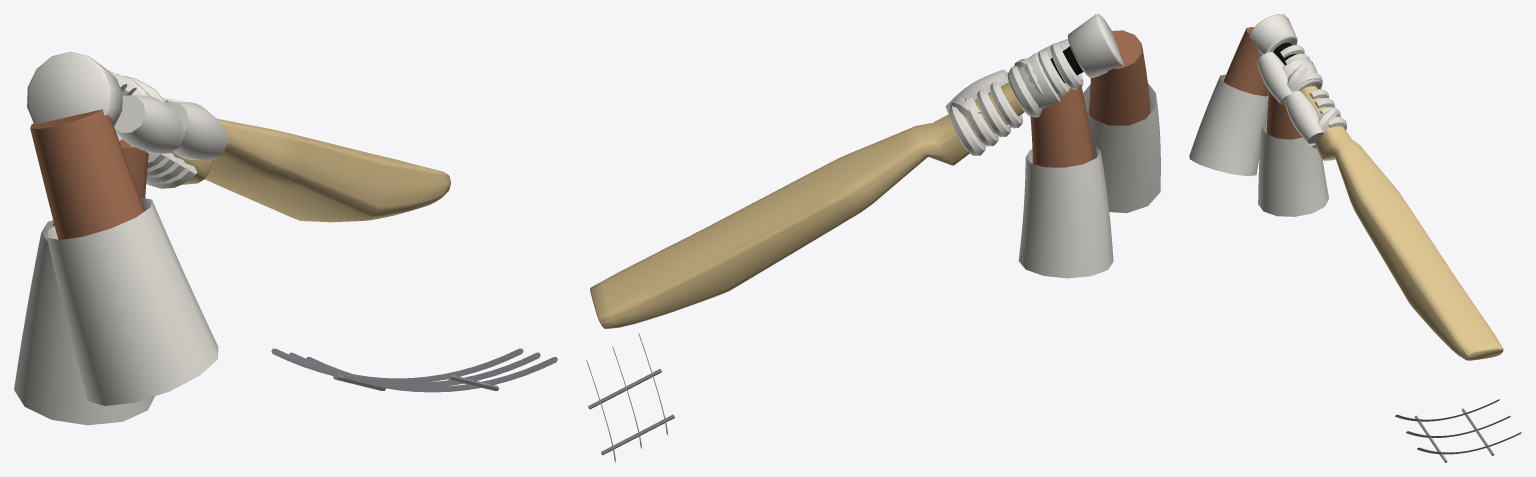
File: viewmodel.glb
3 renders of one model, left to right at view 1: azimuth 30°, elevation 25°; view 2: azimuth 150°, elevation 25°; view 3: azimuth 270°, elevation 25°, orthographic. The views are drawn at different scales.
Visible parts, largest first — view 1: Forearm_Top_Sleeve, Bat, Forearm_Top, Forearm_Bottom_Sleeve, Glove_Top, HelmetGrille, Glove_Bottom, Forearm_Bottom; view 2: Bat, Forearm_Bottom_Sleeve, Forearm_Top_Sleeve, Glove_Bottom, Glove_Top, Forearm_Top, Forearm_Bottom, HelmetGrille; view 3: Bat, Forearm_Top_Sleeve, Forearm_Bottom_Sleeve, Glove_Top, Glove_Bottom, Forearm_Top, HelmetGrille, Forearm_Bottom.
Part boxes in pixels (box(x1,y1,x2,y2)): Forearm_Top_Sleeve: box(47, 197, 218, 405); Bat: box(171, 119, 450, 222); Forearm_Top: box(30, 109, 144, 239); Forearm_Bottom_Sleeve: box(14, 220, 154, 425); Glove_Top: box(27, 51, 184, 153); HelmetGrille: box(271, 348, 557, 392); Glove_Bottom: box(121, 76, 227, 188); Forearm_Bottom: box(53, 139, 148, 226); Bat: box(590, 46, 1083, 328); Forearm_Bottom_Sleeve: box(1018, 146, 1113, 278); Forearm_Top_Sleeve: box(1083, 83, 1160, 213); Glove_Bottom: box(945, 52, 1060, 155); Glove_Top: box(1009, 14, 1123, 117); Forearm_Top: box(1088, 30, 1150, 125); Forearm_Bottom: box(1030, 87, 1094, 167); HelmetGrille: box(586, 333, 674, 462); Bat: box(1273, 42, 1503, 360); Forearm_Top_Sleeve: box(1189, 74, 1268, 176); Forearm_Bottom_Sleeve: box(1258, 118, 1328, 216); Glove_Top: box(1249, 14, 1322, 104); Glove_Bottom: box(1282, 58, 1346, 148); Forearm_Top: box(1223, 27, 1268, 96); HelmetGrille: box(1395, 399, 1521, 462); Forearm_Bottom: box(1266, 91, 1302, 139).
Size of the model in its own units: 0.7887 by 0.6975 by 0.6716.
